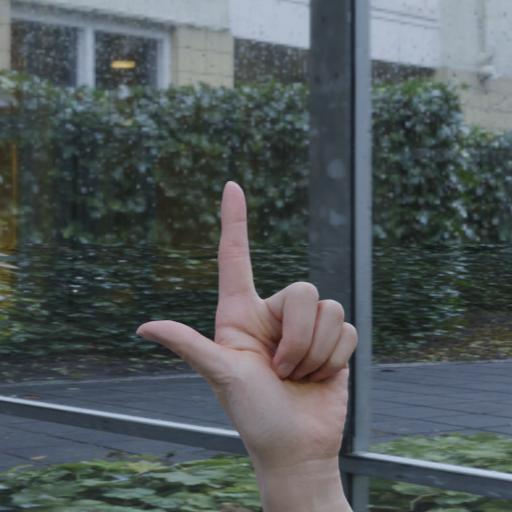L: (126, 178, 366, 512)
